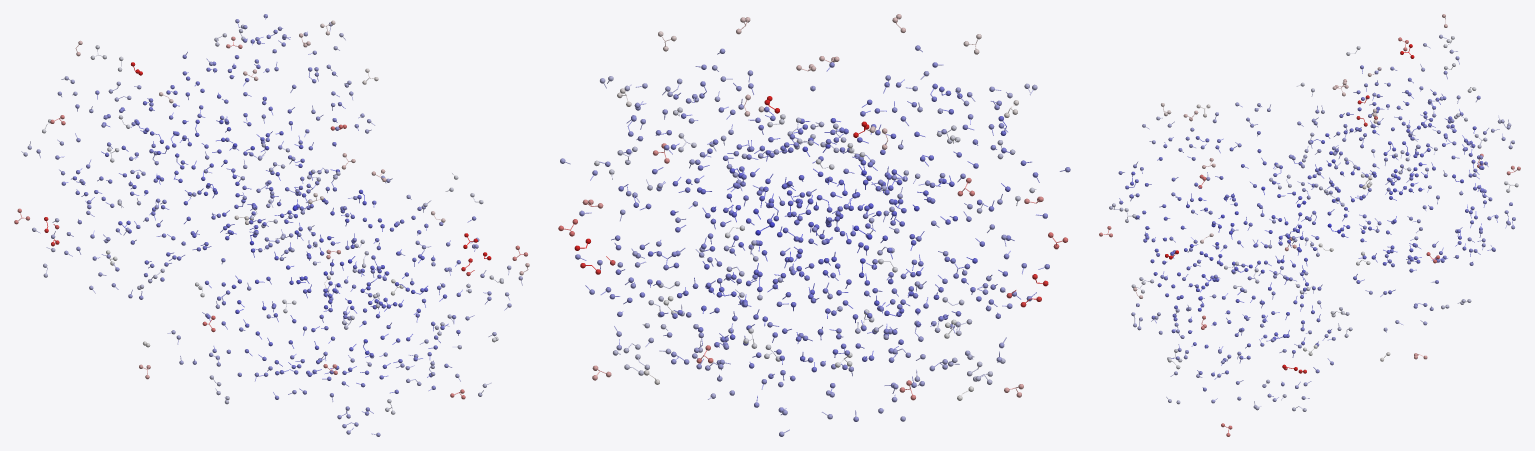
Rendered from 1gfl__ball_and_stick__b-factor__H.glb.
3 renders of one model, left to right at view 1: azimuth 30°, elevation 25°; view 2: azimuth 150°, elevation 25°; view 3: azimuth 270°, elevation 25°, orthographic. The views are drawn at different scales.
Visible parts, largest first — view 1: Renderer Node; view 2: Renderer Node; view 3: Renderer Node.
Boxes of the visible parts, bbox=[...] form: Renderer Node: bbox=[14, 14, 529, 436]; Renderer Node: bbox=[558, 14, 1070, 436]; Renderer Node: bbox=[1099, 14, 1520, 436].
Size of the model in its own units: 63.02 by 52.63 by 62.2.
